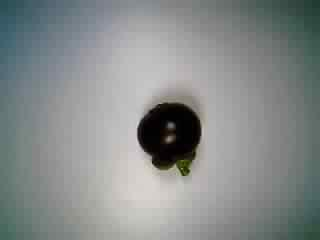mangosteen: (132, 98, 209, 179)
